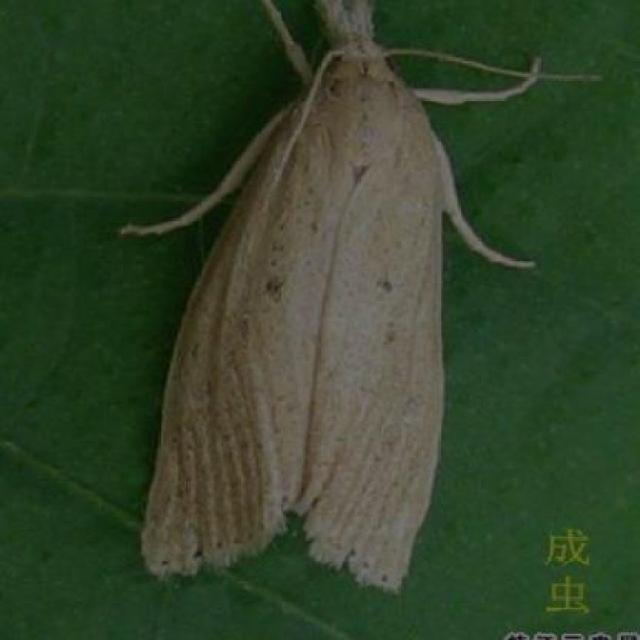stem-borer: (130, 0, 478, 598)
